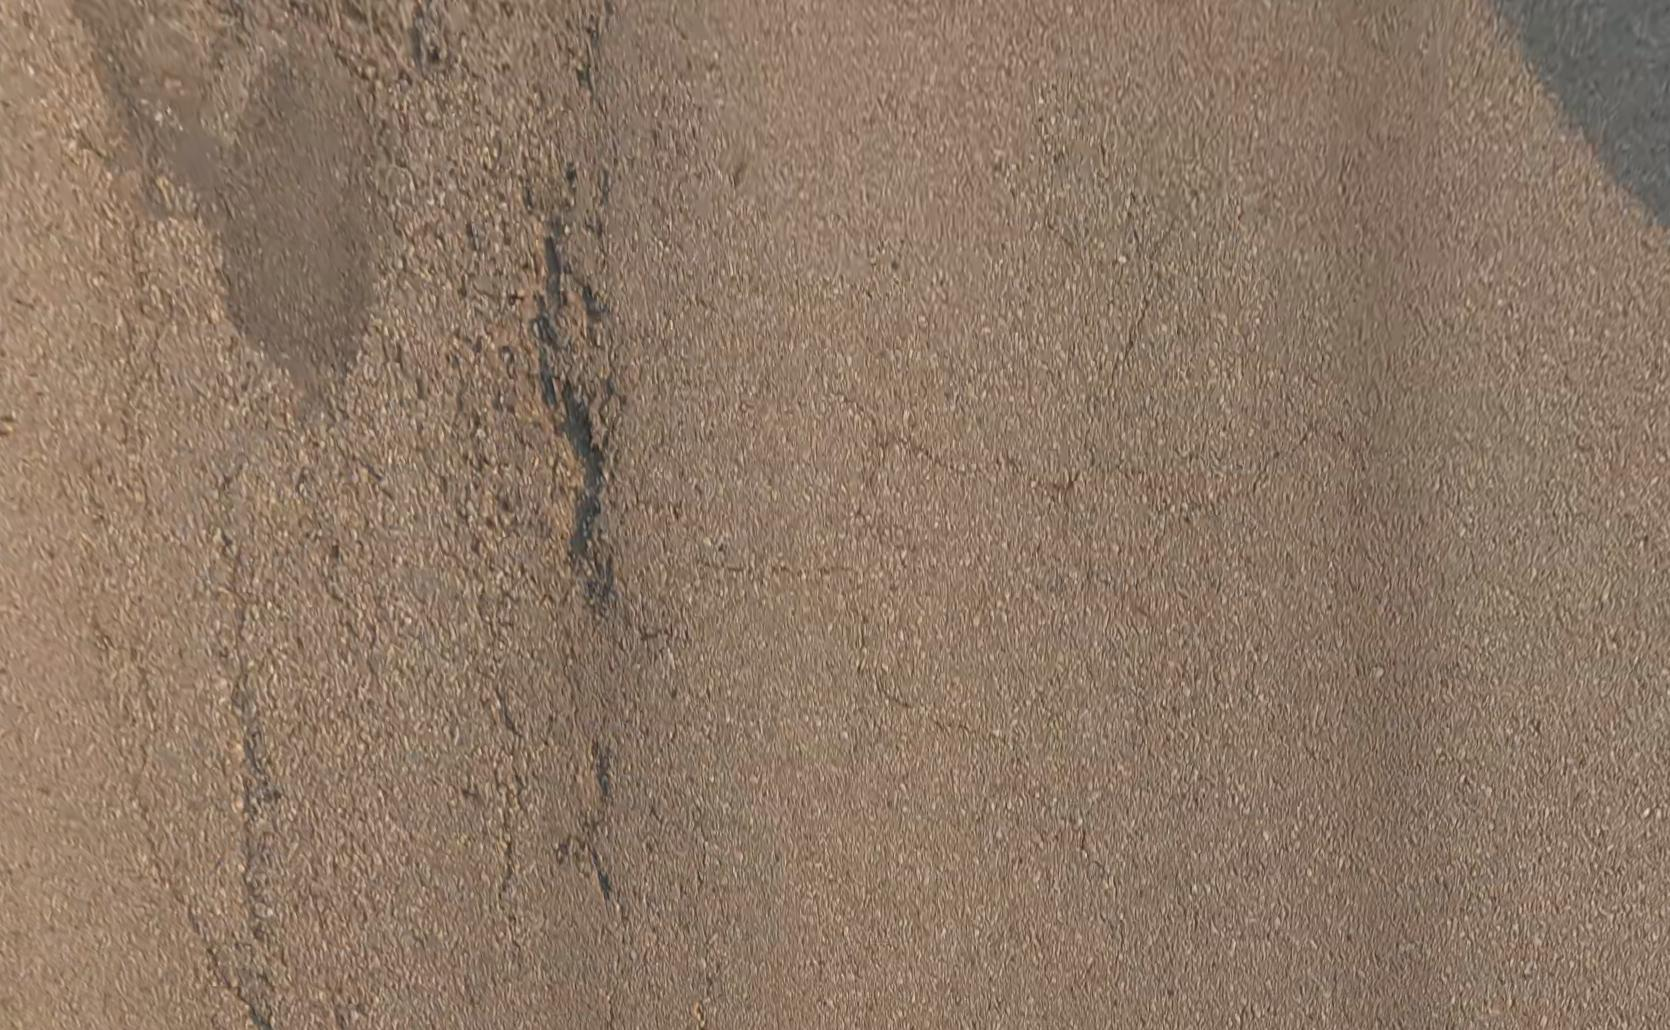pothole: (514, 234, 592, 531), (562, 267, 598, 338), (389, 17, 422, 76)
